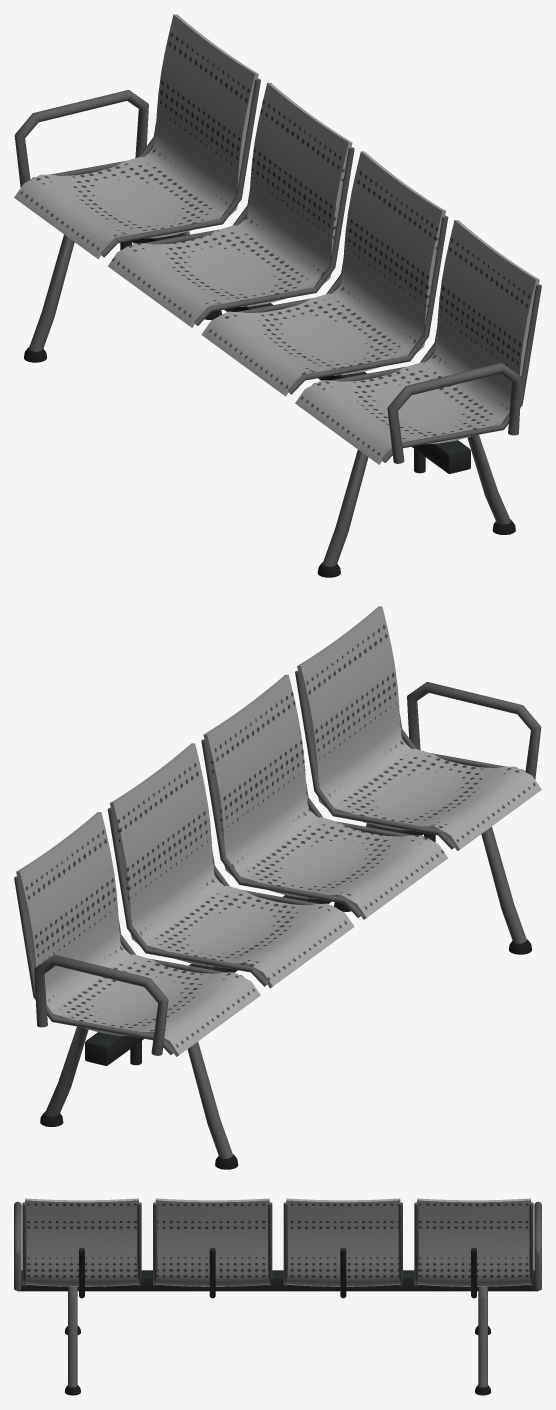
File: CTCC_LOC02_WaitingBench.fbx
The picture shows the model from 3 angles, top to bottom: view 1: azimuth 30°, elevation 25°; view 2: azimuth 150°, elevation 25°; view 3: azimuth 270°, elevation 25°; orthographic projection. The views are drawn at different scales.
Parts seen in each view (by area): view 1: CTCC_LOC02_WaitingBench_LOD0; view 2: CTCC_LOC02_WaitingBench_LOD0; view 3: CTCC_LOC02_WaitingBench_LOD0.
Part boxes in pixels (box(x1,y1,x2,y2)): CTCC_LOC02_WaitingBench_LOD0: box(14, 14, 541, 577); CTCC_LOC02_WaitingBench_LOD0: box(14, 606, 541, 1169); CTCC_LOC02_WaitingBench_LOD0: box(14, 1198, 541, 1395).
Size of what is drawn, in the model's own units: 0.614 by 0.8301 by 2.06.
